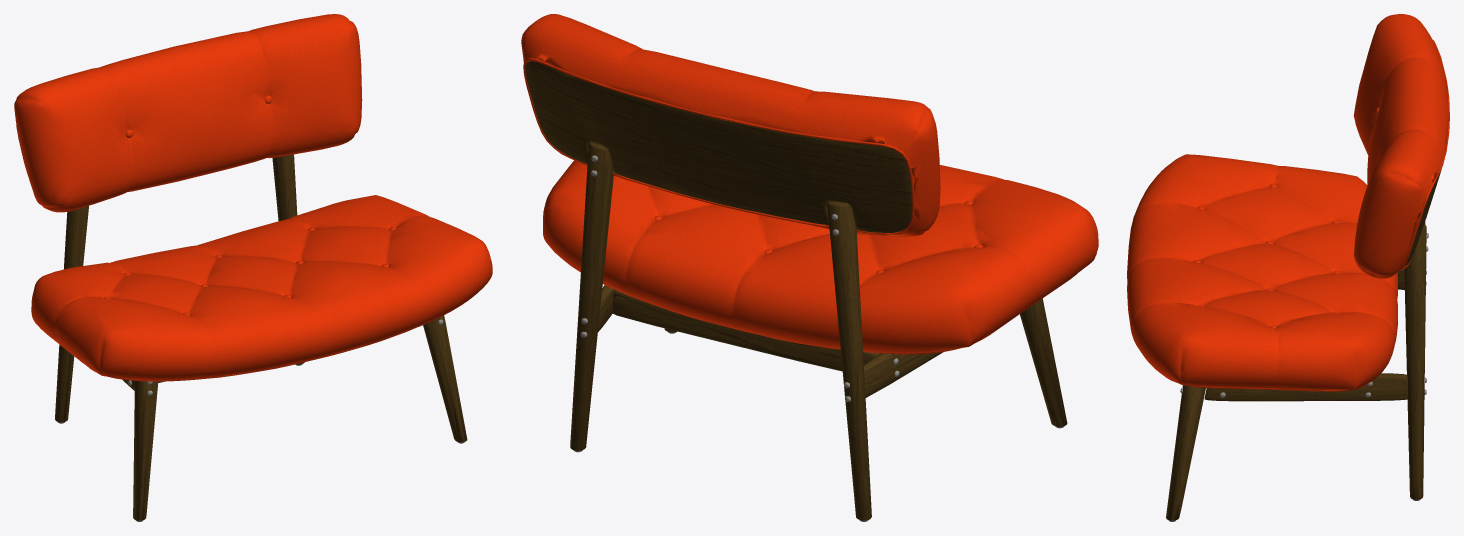
The model's file is SheenChair.glb.
3 renders of one model, left to right at view 1: azimuth 30°, elevation 25°; view 2: azimuth 150°, elevation 25°; view 3: azimuth 270°, elevation 25°, orthographic. The views are drawn at different scales.
Visible parts, largest first — view 1: SheenChair_fabric, SheenChair_wood; view 2: SheenChair_fabric, SheenChair_wood; view 3: SheenChair_fabric, SheenChair_wood.
Boxes of the visible parts, x1=… form: SheenChair_fabric: x1=14, y1=14, x2=492, y2=381; SheenChair_wood: x1=55, y1=154, x2=467, y2=520; SheenChair_fabric: x1=521, y1=14, x2=1098, y2=354; SheenChair_wood: x1=525, y1=61, x2=1067, y2=520; SheenChair_fabric: x1=1127, y1=14, x2=1449, y2=391; SheenChair_wood: x1=1166, y1=170, x2=1441, y2=520.
Size of the model in its own units: 0.8265 by 0.686 by 0.57.
Materials: 4 (3 with a texture image).
